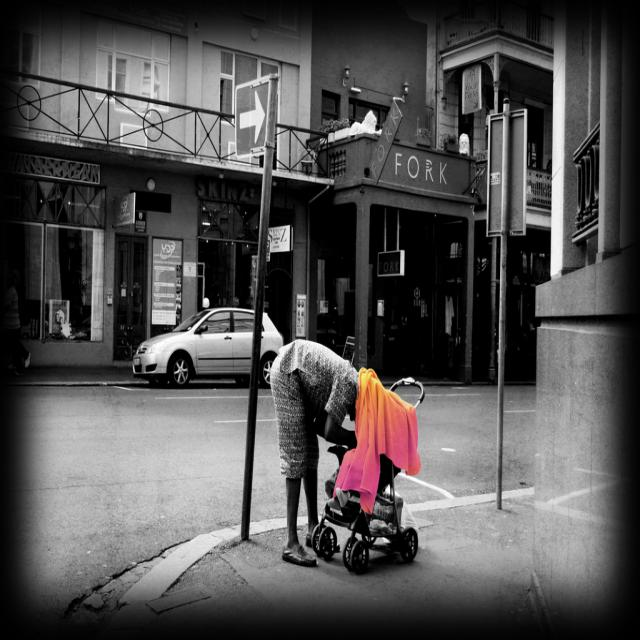car: (133, 304, 284, 392)
